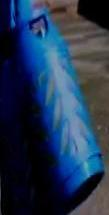cylinder: (0, 1, 109, 215)
